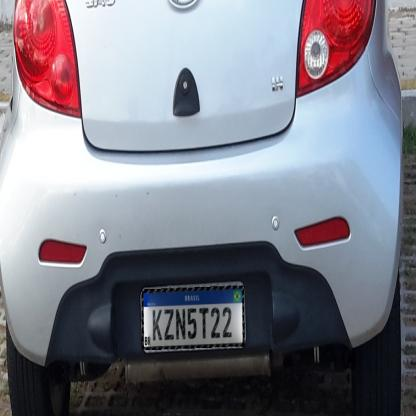PlacaM: (142, 286, 244, 350)
